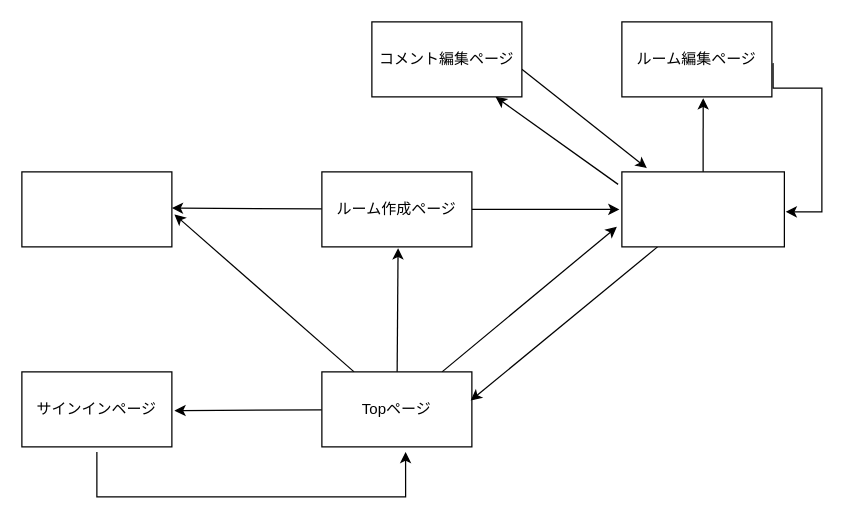
The diagram is 854 pixels wide and 529 high, and some of its shapes have lost their labels. Each missing label, with the box of its shape:
サインアップページ: (21, 171, 172, 247)
チャットルームページ: (621, 171, 784, 247)
